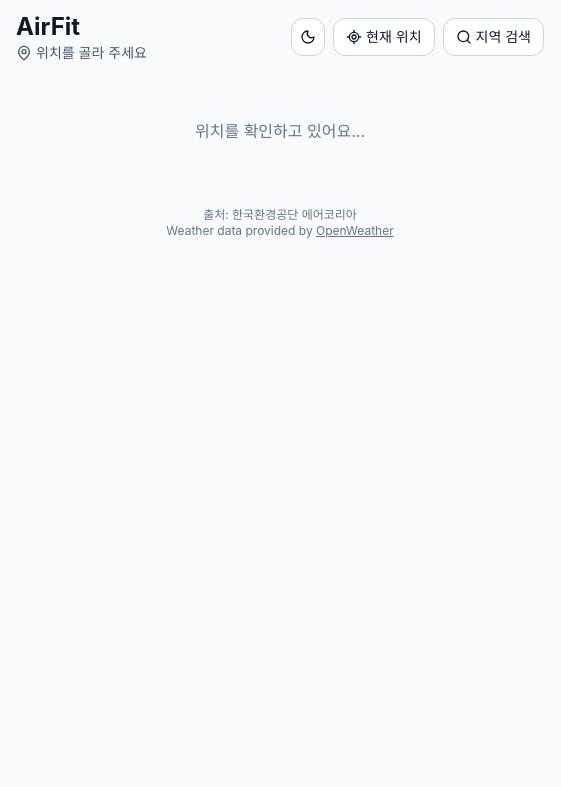
Test: a late position does not override the region the user picked
Step 1. Click the button "지역 검색" → (493, 37), box 442,18 -> 544,56
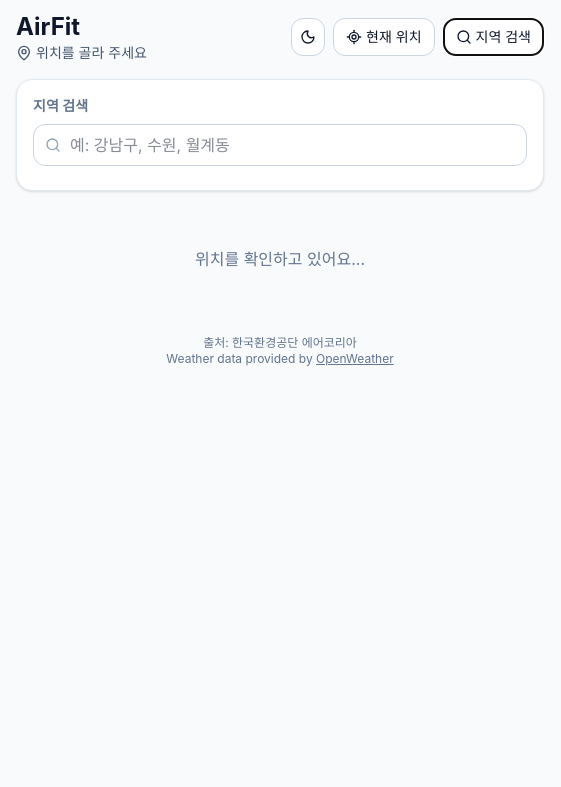
Step 2. Type "수원" into the dropdown labelled "지역 검색" → (280, 145), box 33,124 -> 527,166
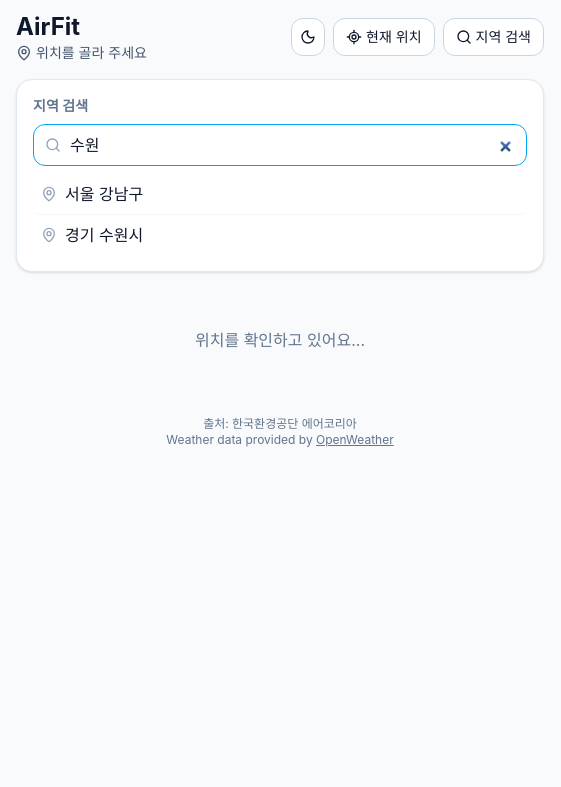
Step 3. Click the option "경기 수원시" → (92, 235), box 41,225 -> 143,245
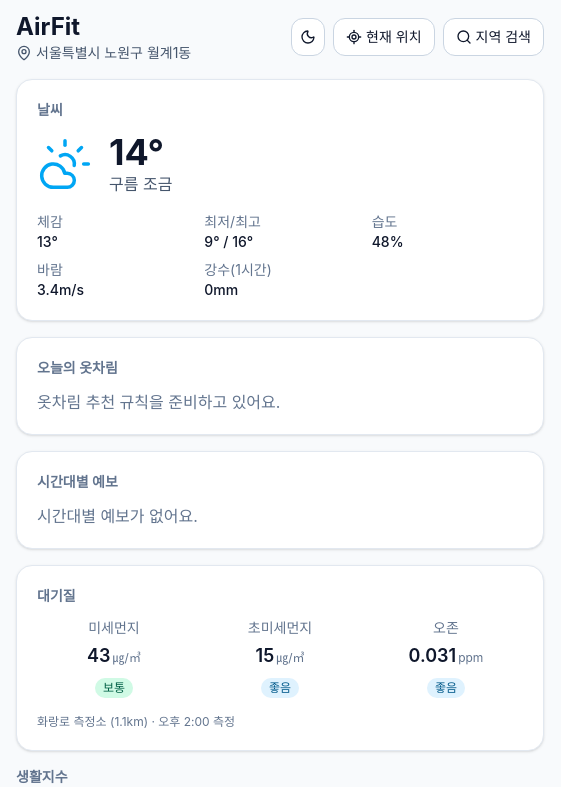
expect the element "날씨" is shown: met, box 16,79 -> 544,321
